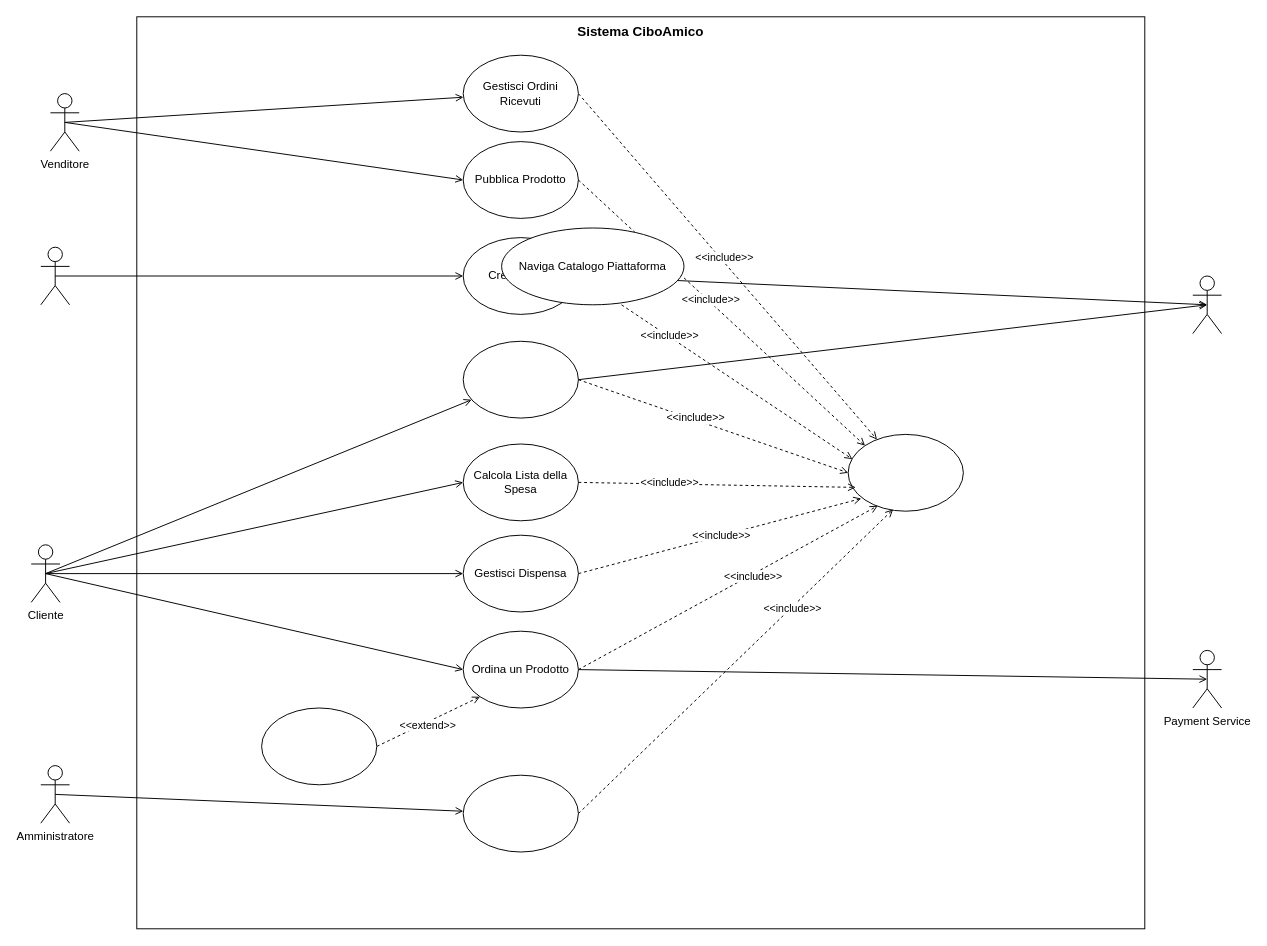
This 1267x946 diagram has some shape labels left out. Each missing label, with the centre of its shape:
Applica Buono Promozionale: the point at 319,746
Autenticati: the point at 905,472
Gestisci approvazioni: the point at 520,813
Nutrizionista: the point at 55,275
OpenFoodFacts: the point at 1207,304
Trova Ricette Compatibili: the point at 520,379
